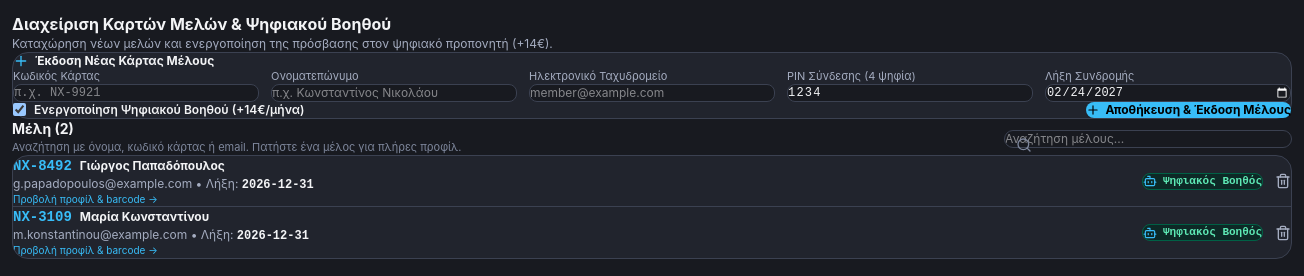
Test: MembersTab (admin member CRUD) › filters by name, card code or email as the admin types
Step 1. Type "μαρία" into the search field labelled "Αναζήτηση μέλους" → (1148, 139), box [1004,130,1292,148]
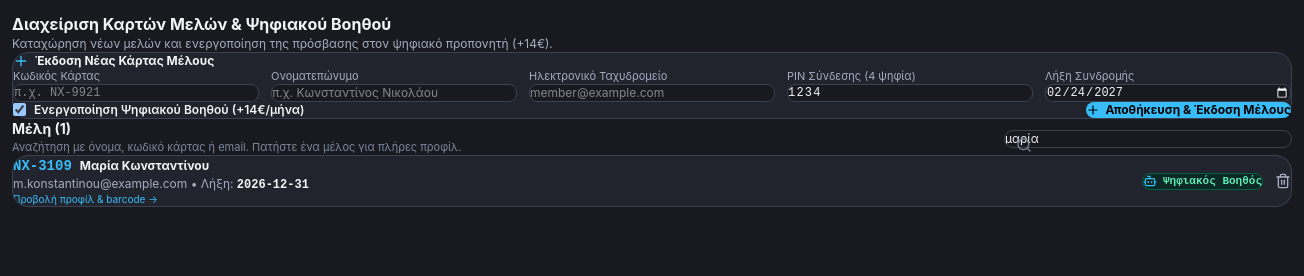
Check: the text "Μαρία Κωνσταντίνου" is shown, box [80,158,209,174]
Check: the button "Γιώργος Παπαδόπουλος" is gone
// The match is case-insensitive and covers the card code too.
Step 2. Replace the text in the search field named "Αναζήτηση μέλους" with "nx-8492" → (1148, 139), box [1004,130,1292,148]
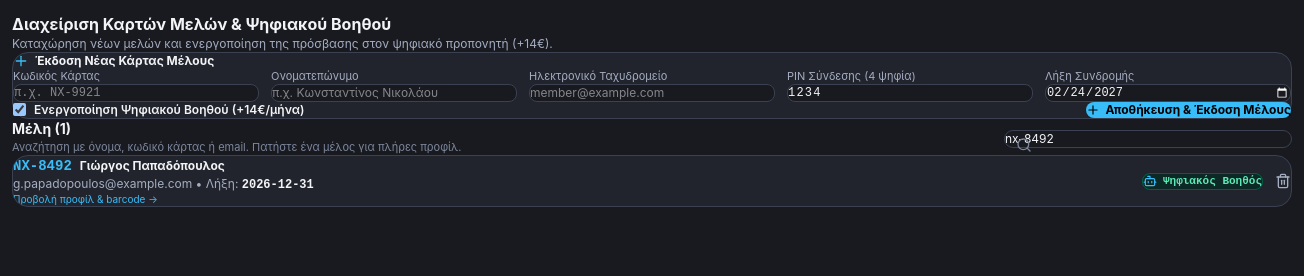
Check: the text "Γιώργος Παπαδόπουλος" is shown, box [80,158,225,174]
Check: the button "Μαρία Κωνσταντίνου" is gone
Step 3. Replace the text in the search field named "Αναζήτηση μέλους" with "konstantinou@example" → (1148, 139), box [1004,130,1292,148]
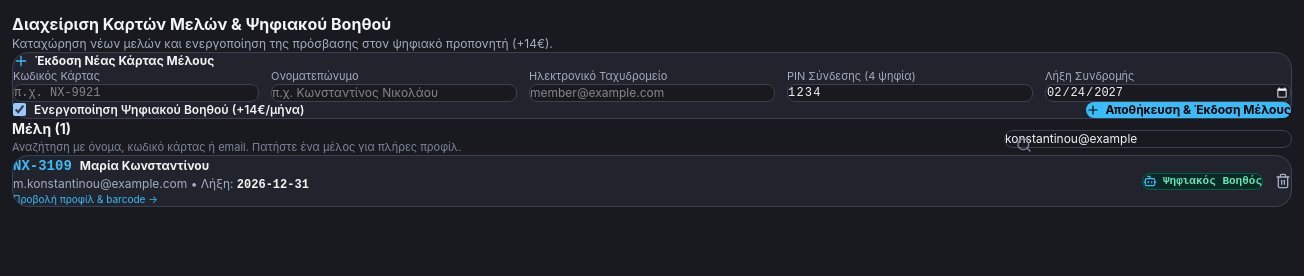
Check: the text "Μαρία Κωνσταντίνου" is shown, box [80,158,209,174]
